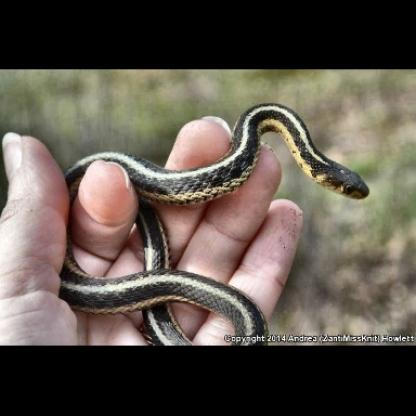Snake: (61, 100, 370, 326)
